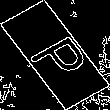P_NE: (18, 26, 92, 84)
